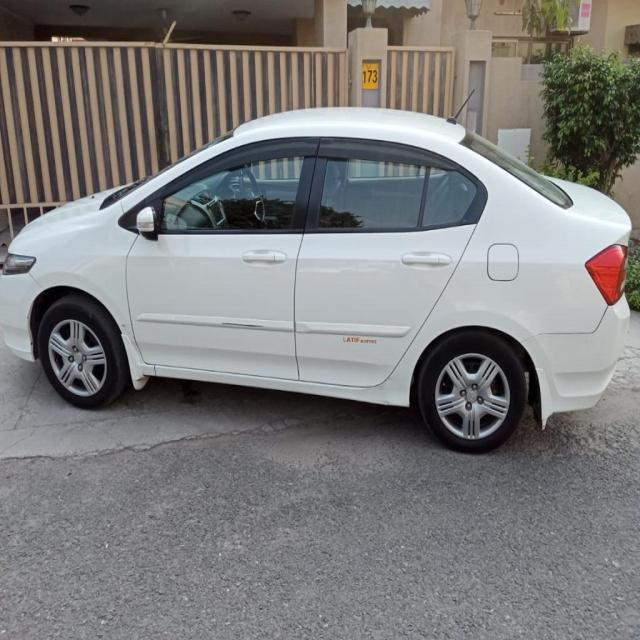scratch: (221, 314, 264, 331)
